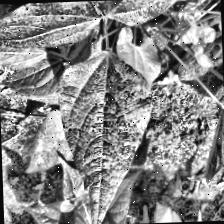ALS: (58, 53, 164, 224), (0, 0, 99, 50), (90, 0, 221, 34)
